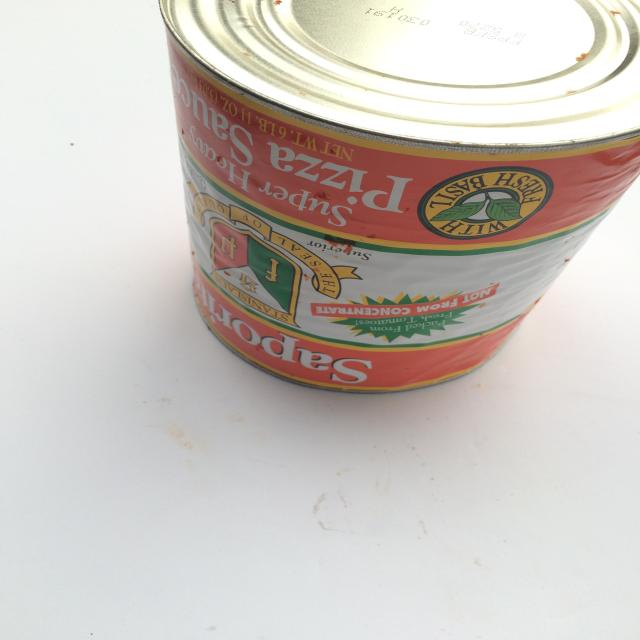metal: (157, 0, 640, 394)
